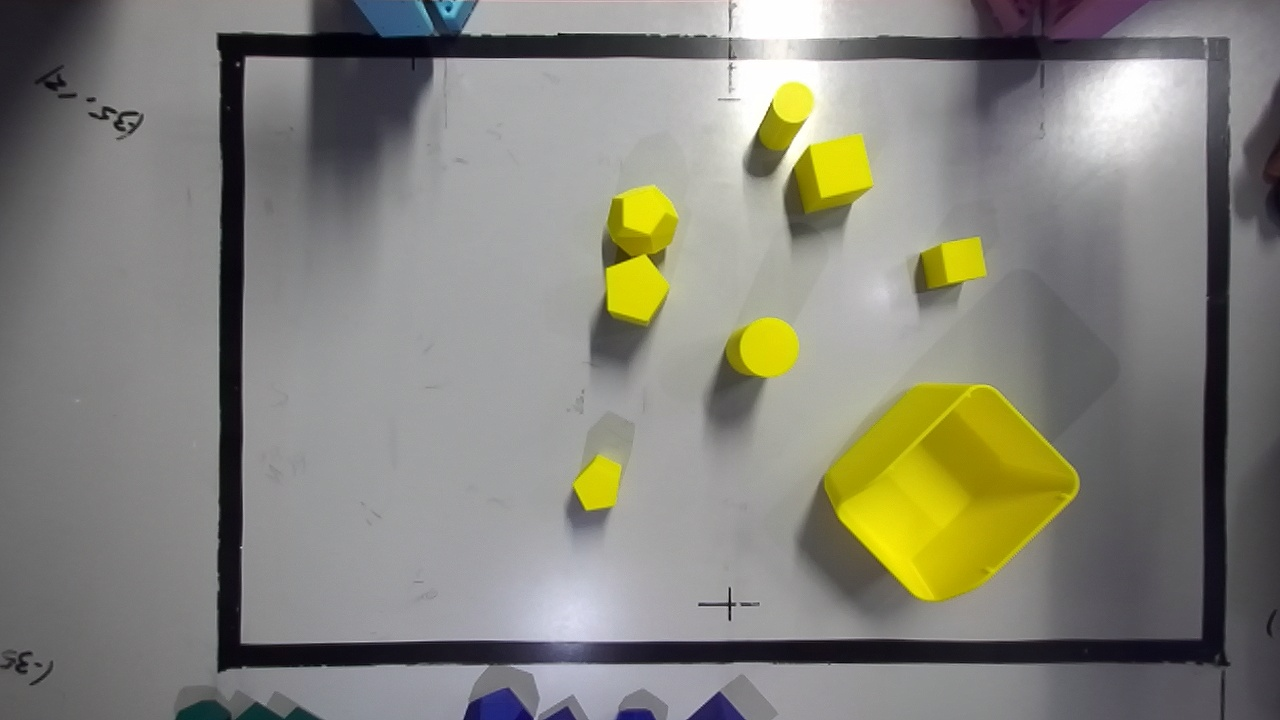bin: (824, 383, 1078, 600)
cube: (794, 134, 872, 212), (920, 237, 986, 288)
cylinder: (725, 317, 798, 376), (758, 82, 813, 149)
dodecahedron: (607, 185, 677, 256)
hexagonal: (605, 255, 668, 324), (572, 455, 621, 510)
